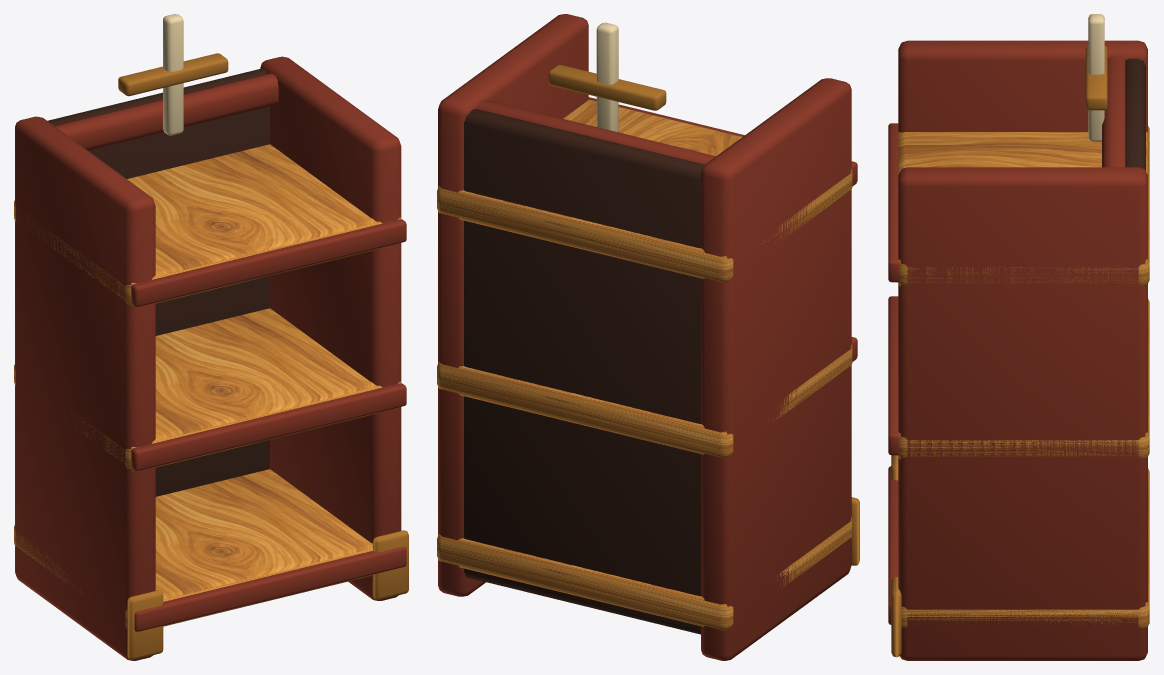
File: armory.glb
3 renders of one model, left to right at view 1: azimuth 30°, elevation 25°; view 2: azimuth 150°, elevation 25°; view 3: azimuth 270°, elevation 25°, orthographic. The views are drawn at different scales.
Parts seen in each view (by area): view 1: armory; view 2: armory; view 3: armory.
Boxes of the visible parts, x1,y1,x2,y2 form: armory: (14,14,408,660); armory: (437,14,859,660); armory: (888,14,1149,660).
Size of the model in its own units: 0.9312 by 1.74 by 0.7125.
5 materials, 1 textured.
